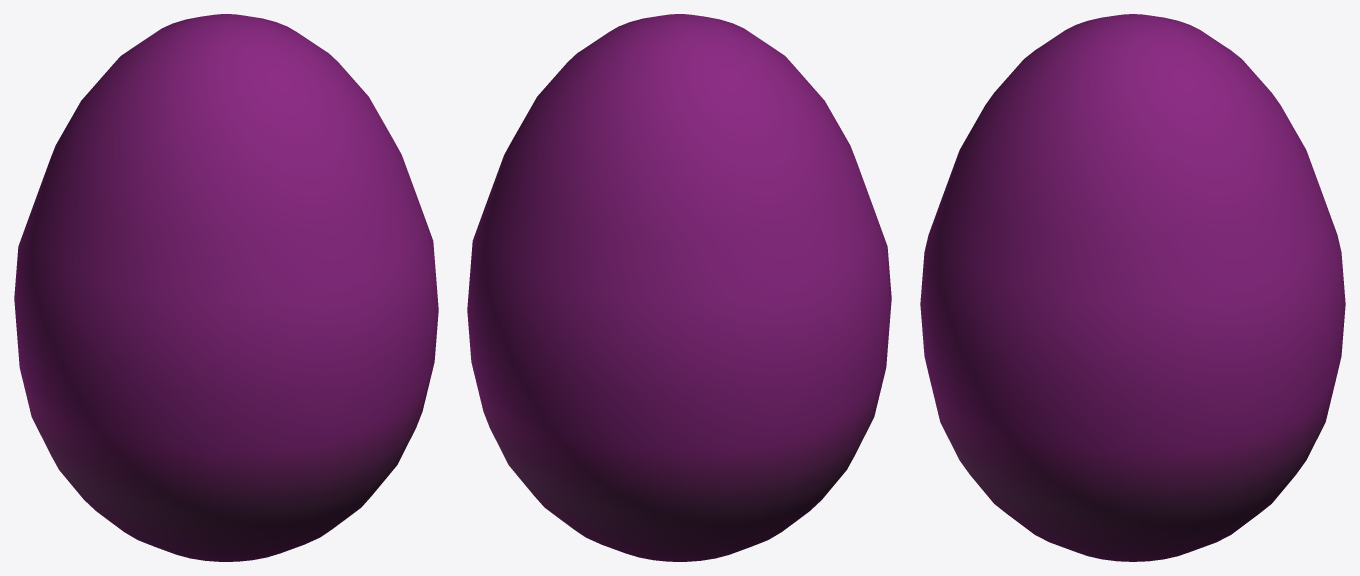
File: egg08.glb
3 views of the same model, side by side, from view 1: azimuth 30°, elevation 25°; view 2: azimuth 150°, elevation 25°; view 3: azimuth 270°, elevation 25° (orthographic).
Visible parts, largest first — view 1: Sphere001; view 2: Sphere001; view 3: Sphere001.
Boxes of the visible parts, bbox=[...] form: Sphere001: bbox=[14, 14, 438, 561]; Sphere001: bbox=[467, 14, 891, 561]; Sphere001: bbox=[920, 14, 1345, 561].
Size of the model in its own units: 0.7237 by 0.9744 by 0.7237.
1 material, 1 textured.
